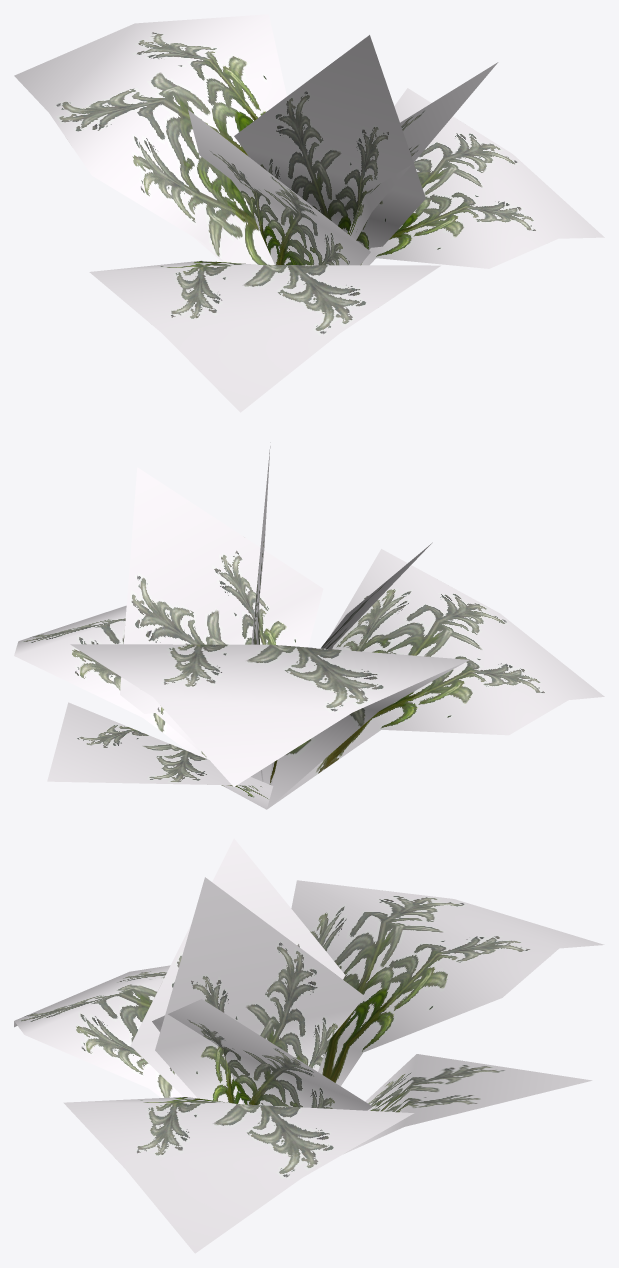
File: bush_mountainsilversage.obj
The picture shows the model from 3 angles, top to bottom: view 1: azimuth 30°, elevation 25°; view 2: azimuth 150°, elevation 25°; view 3: azimuth 270°, elevation 25°; orthographic projection. The views are drawn at different scales.
Parts seen in each view (by area): view 1: bush_mountainsilversage; view 2: bush_mountainsilversage; view 3: bush_mountainsilversage.
Part boxes in pixels (bbox=[...]): bush_mountainsilversage: bbox=[14, 14, 604, 412]; bush_mountainsilversage: bbox=[14, 442, 604, 809]; bush_mountainsilversage: bbox=[14, 838, 604, 1253].
Size of the model in its own units: 1.59 by 0.9901 by 1.64.
1 material, 1 textured.
